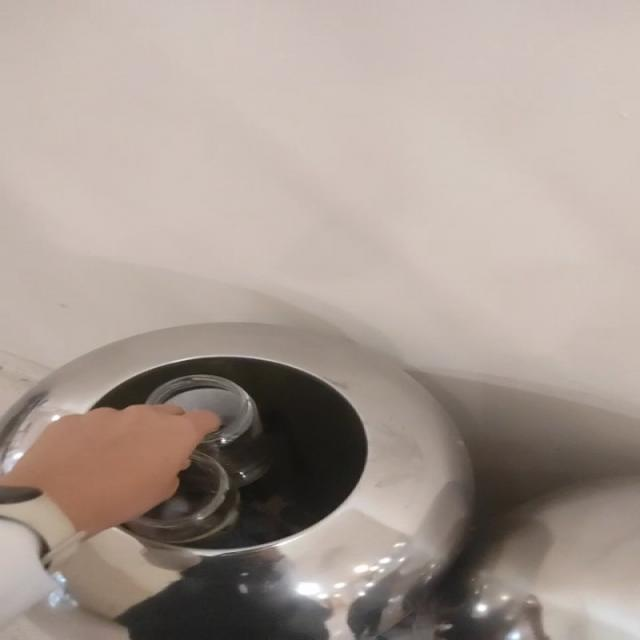glass: (123, 375, 269, 544)
